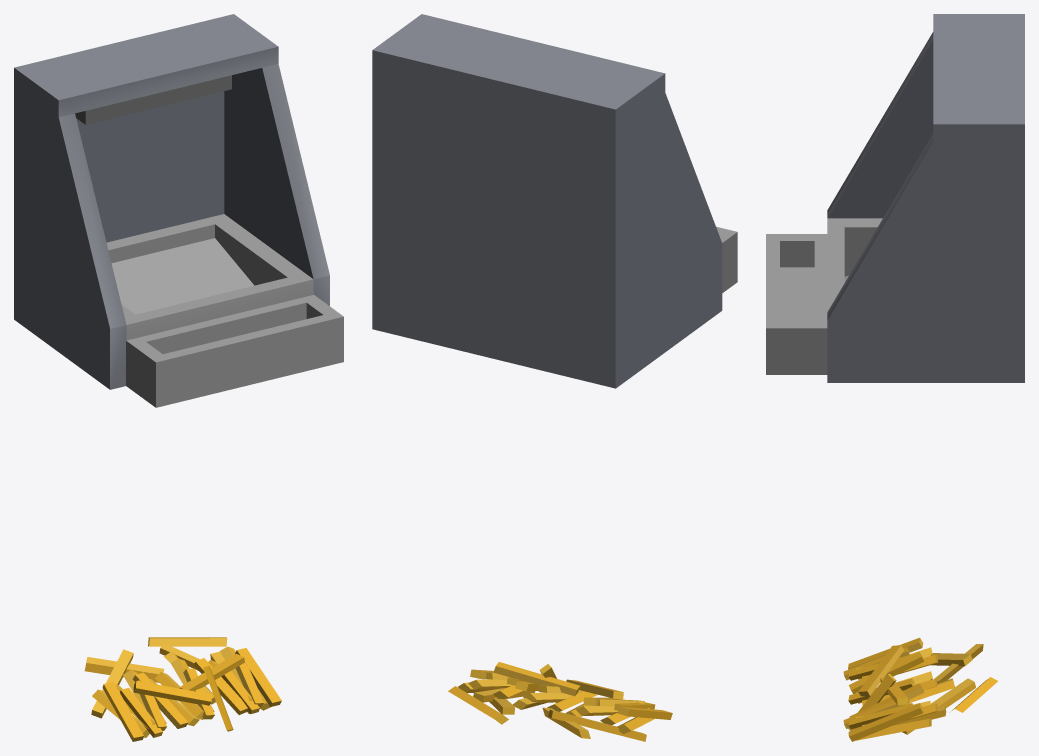
File: Fries.glb
The picture shows the model from 3 angles, left to right: view 1: azimuth 30°, elevation 25°; view 2: azimuth 150°, elevation 25°; view 3: azimuth 270°, elevation 25°; orthographic projection. The views are drawn at different scales.
Visible parts, largest first — view 1: SI_Prop_FriesHeater_01, ST_Prop_Fries; view 2: SI_Prop_FriesHeater_01, ST_Prop_Fries; view 3: SI_Prop_FriesHeater_01, ST_Prop_Fries.
Boxes of the visible parts, x1,y1,x2,y2 form: SI_Prop_FriesHeater_01: [14, 14, 343, 407]; ST_Prop_Fries: [84, 637, 281, 741]; SI_Prop_FriesHeater_01: [372, 14, 737, 388]; ST_Prop_Fries: [448, 662, 672, 741]; SI_Prop_FriesHeater_01: [766, 14, 1024, 382]; ST_Prop_Fries: [843, 637, 997, 741].
Size of the model in its own units: 0.0159 by 0.0439 by 0.0158.
Materials: 2 (2 with a texture image).
